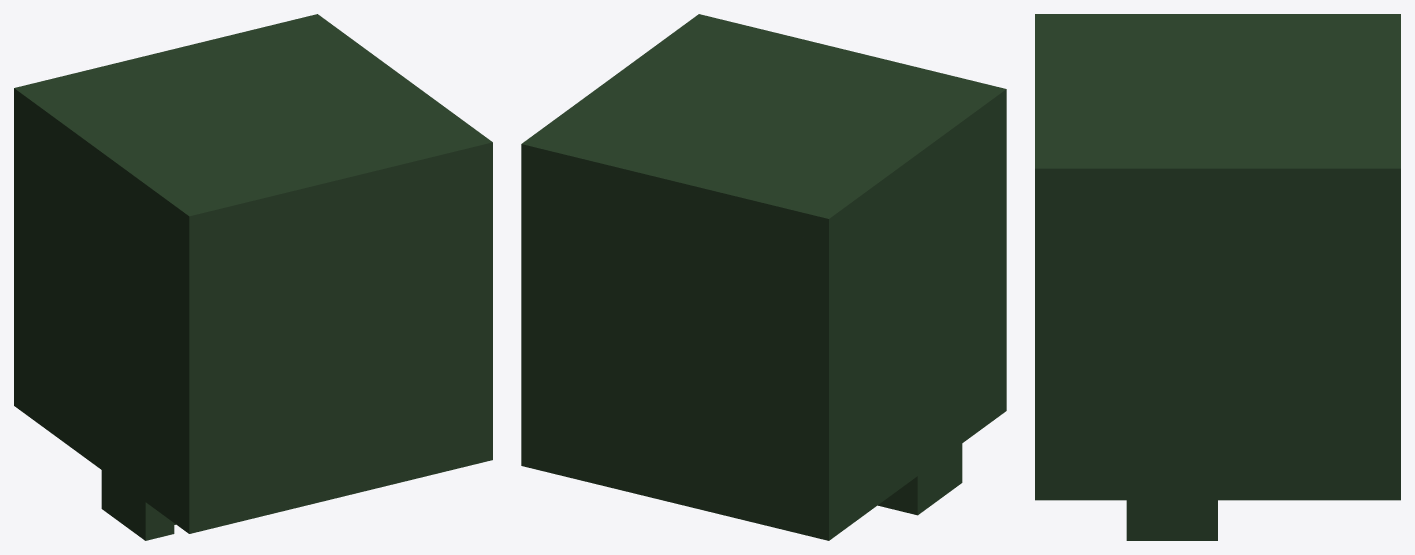
File: house4.glb
3 views of the same model, side by side, from view 1: azimuth 30°, elevation 25°; view 2: azimuth 150°, elevation 25°; view 3: azimuth 270°, elevation 25° (orthographic). The views are drawn at different scales.
Visible parts, largest first — view 1: house2 -col; view 2: house2 -col; view 3: house2 -col.
Part boxes in pixels (x1=…): house2 -col: x1=14, y1=14, x2=492, y2=540; house2 -col: x1=521, y1=14, x2=1006, y2=540; house2 -col: x1=1035, y1=14, x2=1400, y2=540.
Bounding box in the file's own units: 6 × 6.73 × 6.
Materials: 1 (1 with a texture image).
